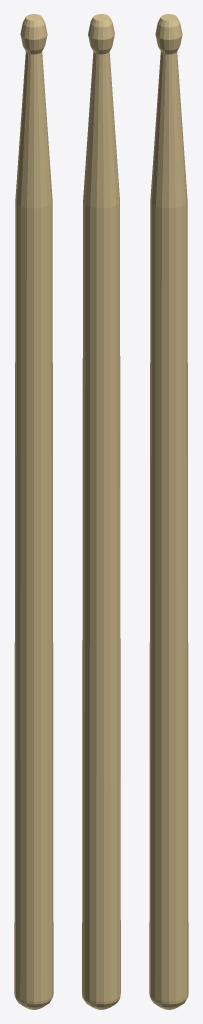
File: drumstick.2bd9e2e1.fbx
3 renders of one model, left to right at view 1: azimuth 90°, elevation 25°; view 2: azimuth 210°, elevation 25°; view 3: azimuth 270°, elevation 25°, orthographic.
Parts seen in each view (by area): view 1: Drumstick; view 2: Drumstick; view 3: Drumstick.
Boxes of the visible parts, bbox=[...] form: Drumstick: bbox=[14, 14, 53, 1009]; Drumstick: bbox=[82, 14, 120, 1009]; Drumstick: bbox=[149, 14, 188, 1009].
Bounding box in the file's own units: 35.07 × 978 × 35.07.
